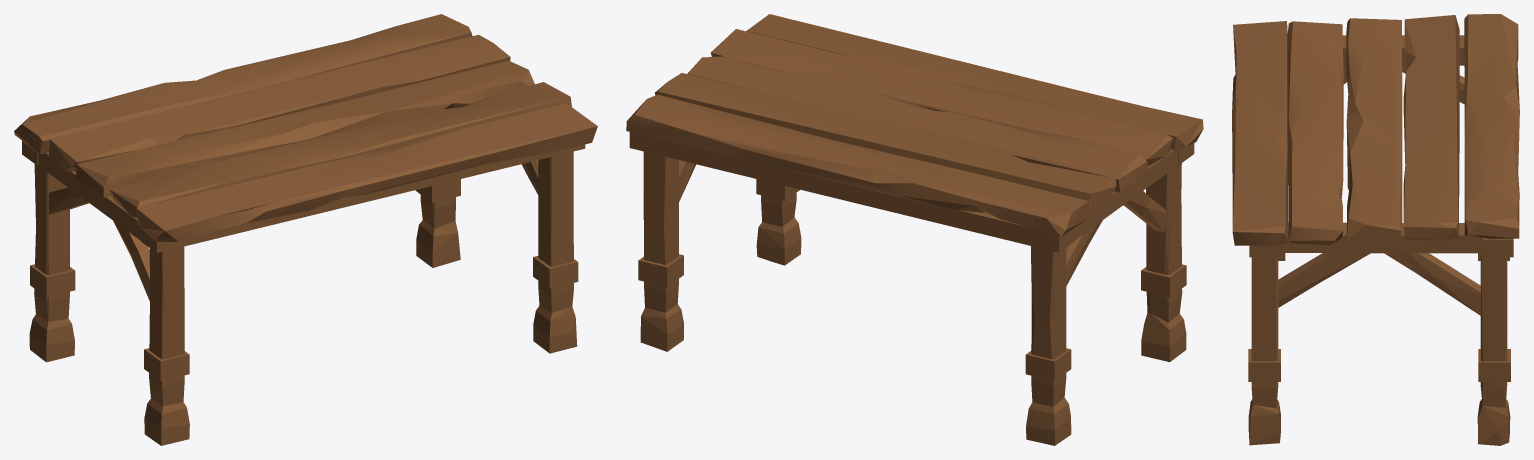
Rendered from table.glb.
The picture shows the model from 3 angles, left to right: view 1: azimuth 30°, elevation 25°; view 2: azimuth 150°, elevation 25°; view 3: azimuth 270°, elevation 25°; orthographic projection. The views are drawn at different scales.
Parts seen in each view (by area): view 1: Table; view 2: Table; view 3: Table.
Part boxes in pixels (bbox=[...]): Table: bbox=[14, 14, 597, 445]; Table: bbox=[626, 14, 1203, 445]; Table: bbox=[1232, 14, 1519, 445].
Bounding box in the file's own units: 3.66 × 1.84 × 2.1.
